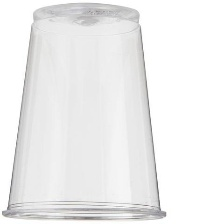glass: (0, 0, 173, 222)
